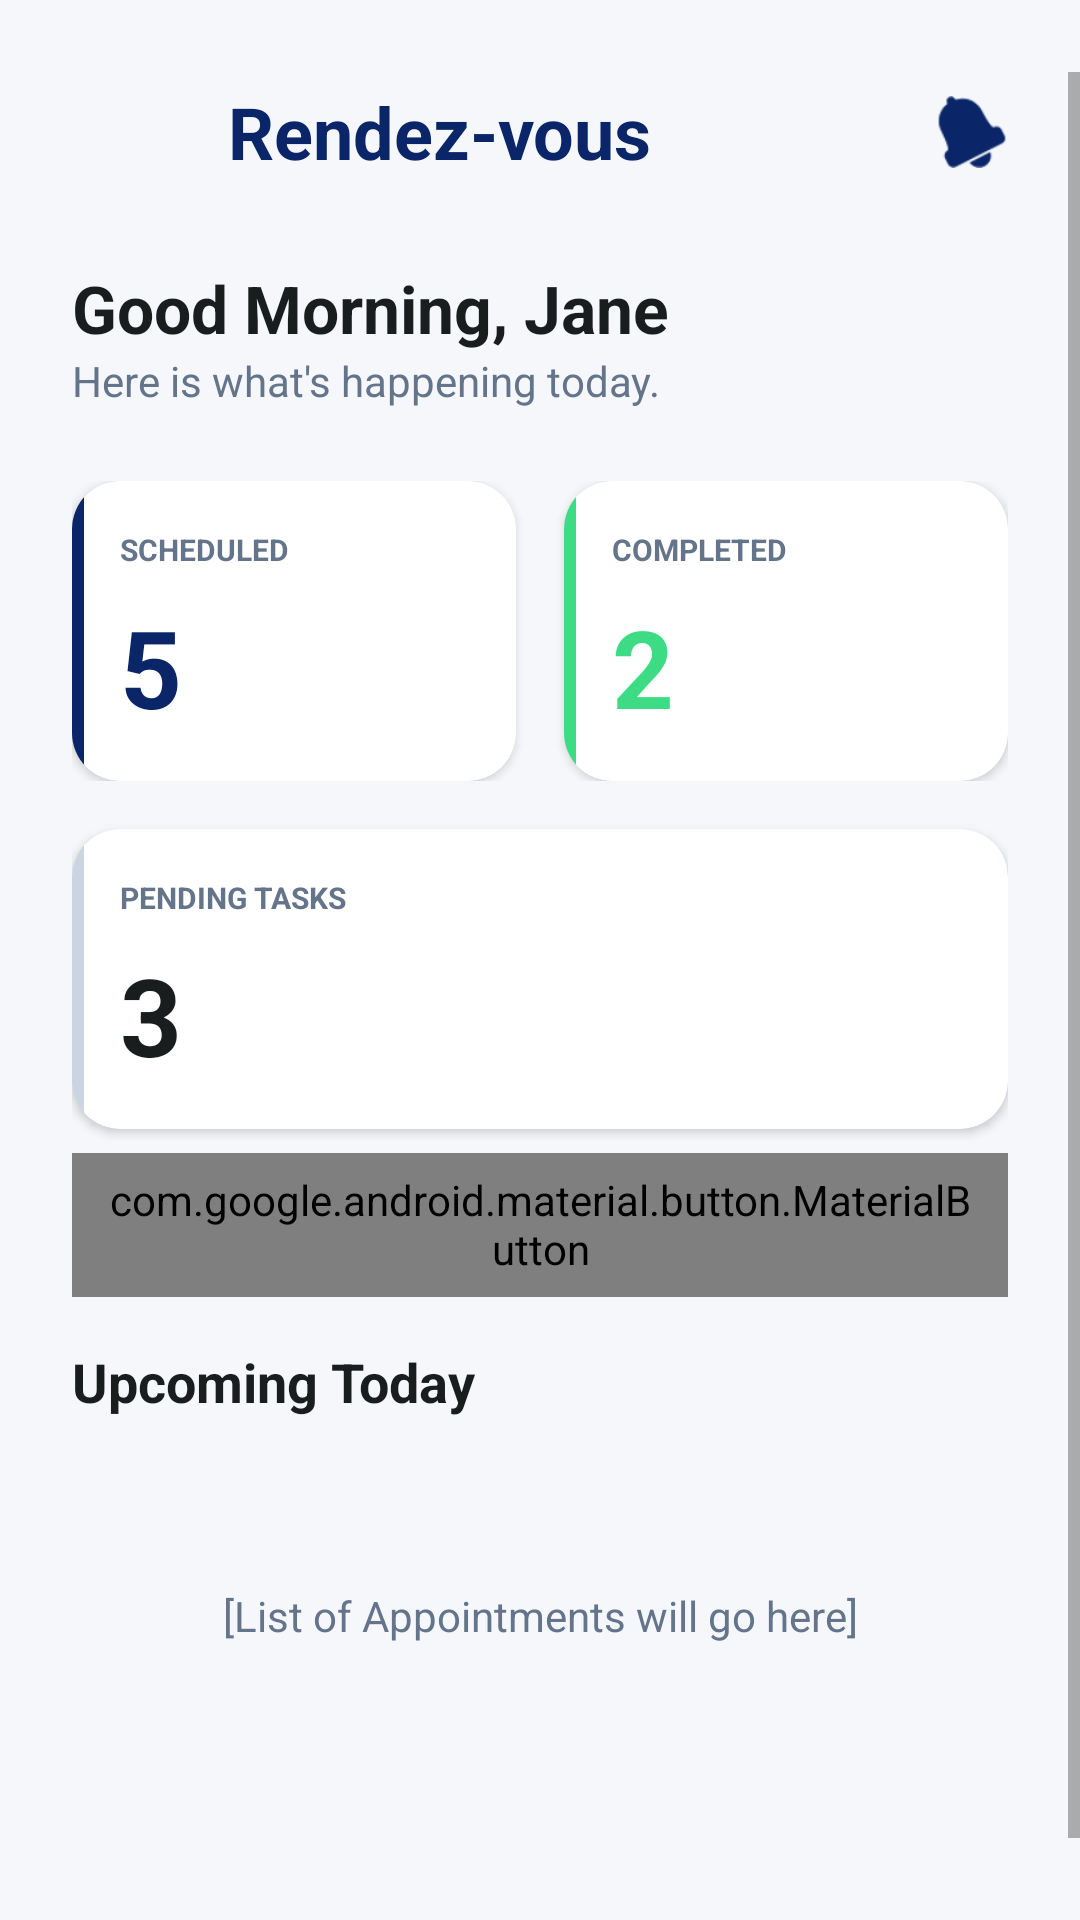

Icon click points for this 1080×1920 phone screenshot, format point (x, y):
popup reminder: point (972, 132)
